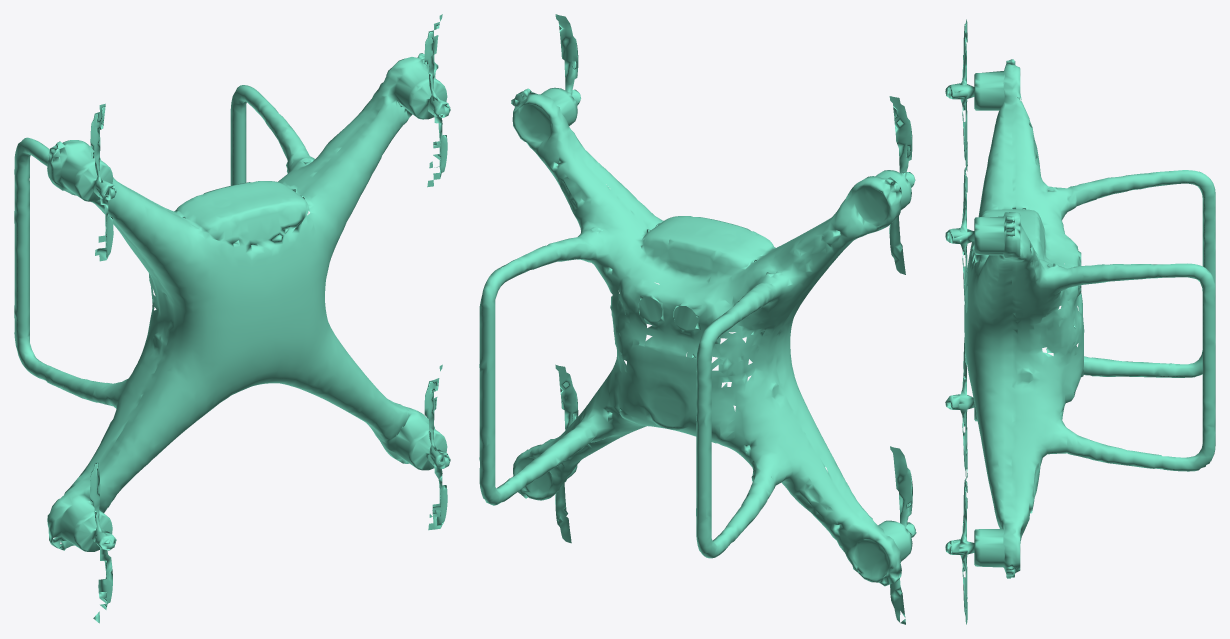
The model's file is mini_micro_uav.glb.
The picture shows the model from 3 angles, left to right: view 1: azimuth 30°, elevation 25°; view 2: azimuth 150°, elevation 25°; view 3: azimuth 270°, elevation 25°; orthographic projection. The views are drawn at different scales.
Parts seen in each view (by area): view 1: target_mini_micro_uav; view 2: target_mini_micro_uav; view 3: target_mini_micro_uav.
Boxes of the visible parts, <box> form: target_mini_micro_uav: <box>14,14,450,623</box>; target_mini_micro_uav: <box>479,14,916,624</box>; target_mini_micro_uav: <box>945,19,1215,624</box>.
Bounding box in the file's own units: 0.2855 × 0.3714 × 0.1948.
